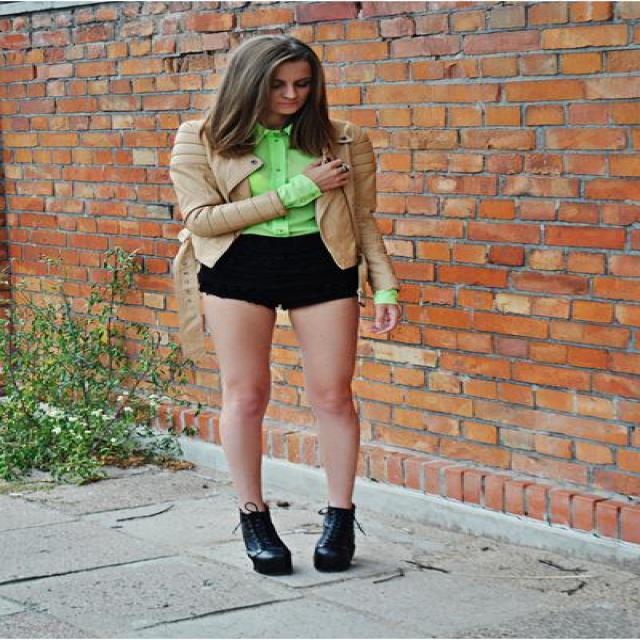shirt: (170, 91, 411, 293)
shoe: (240, 499, 357, 575)
shorts: (197, 223, 363, 319)
